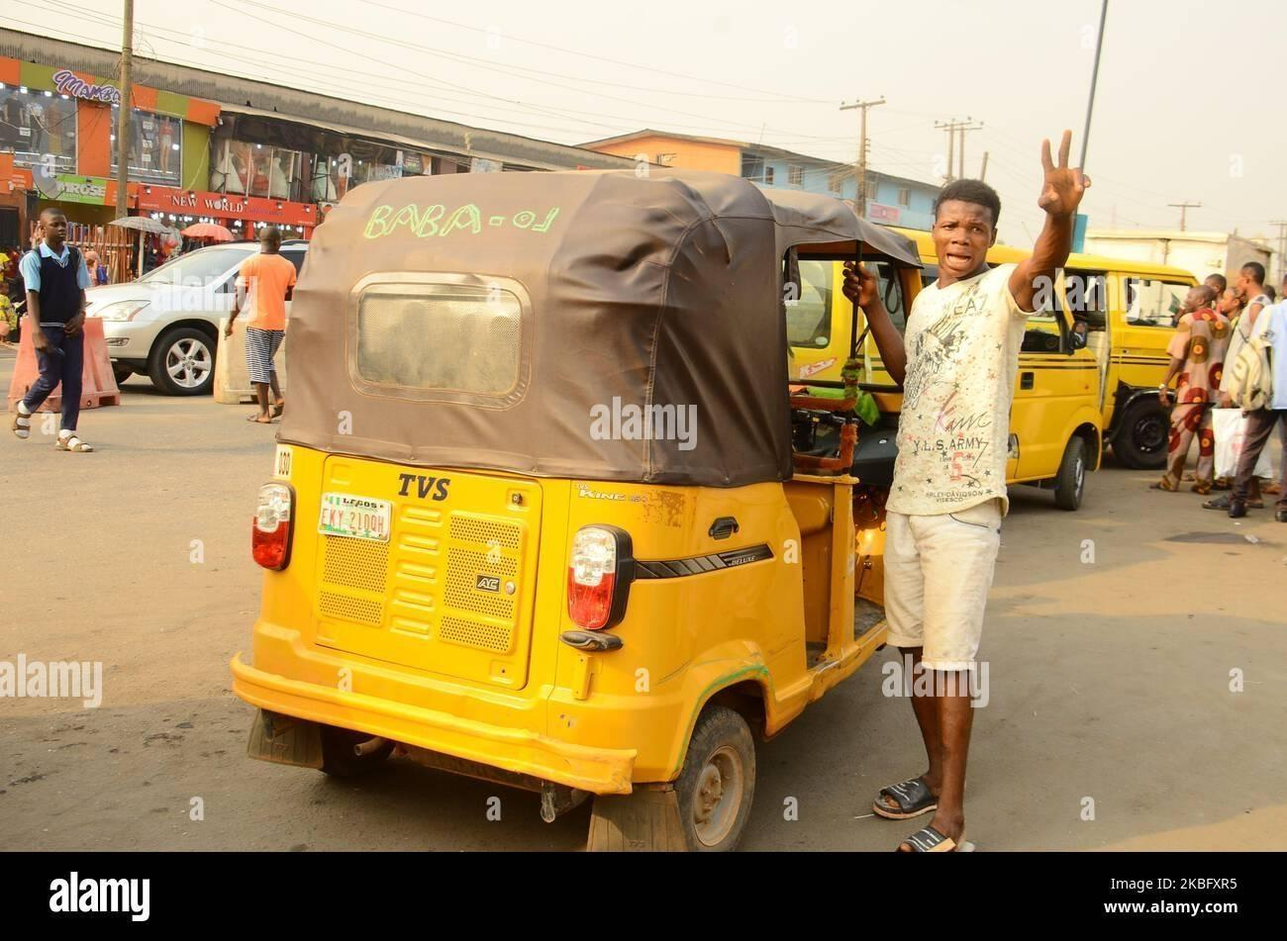keke: (232, 158, 972, 844), (231, 152, 790, 857)
